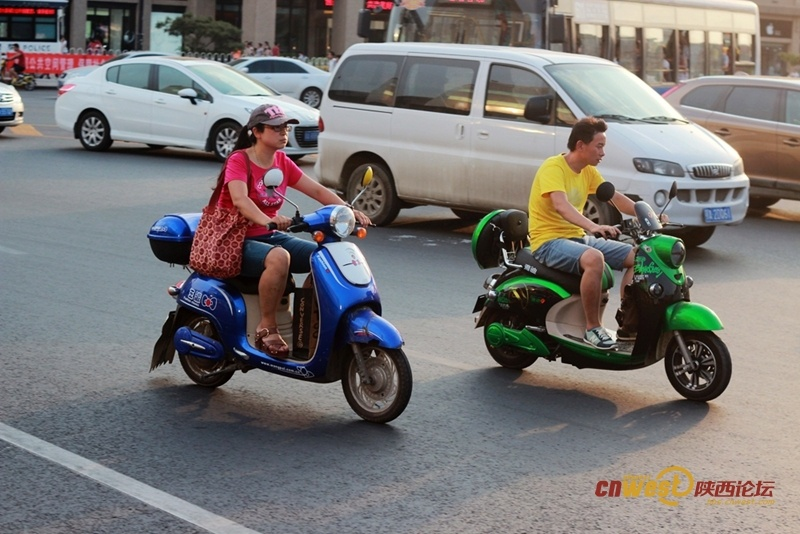non-vehicle: (144, 210, 414, 424), (472, 206, 733, 400)
